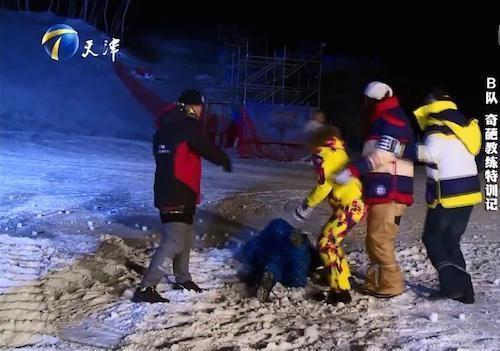Fall-Detected: (217, 206, 330, 301)
